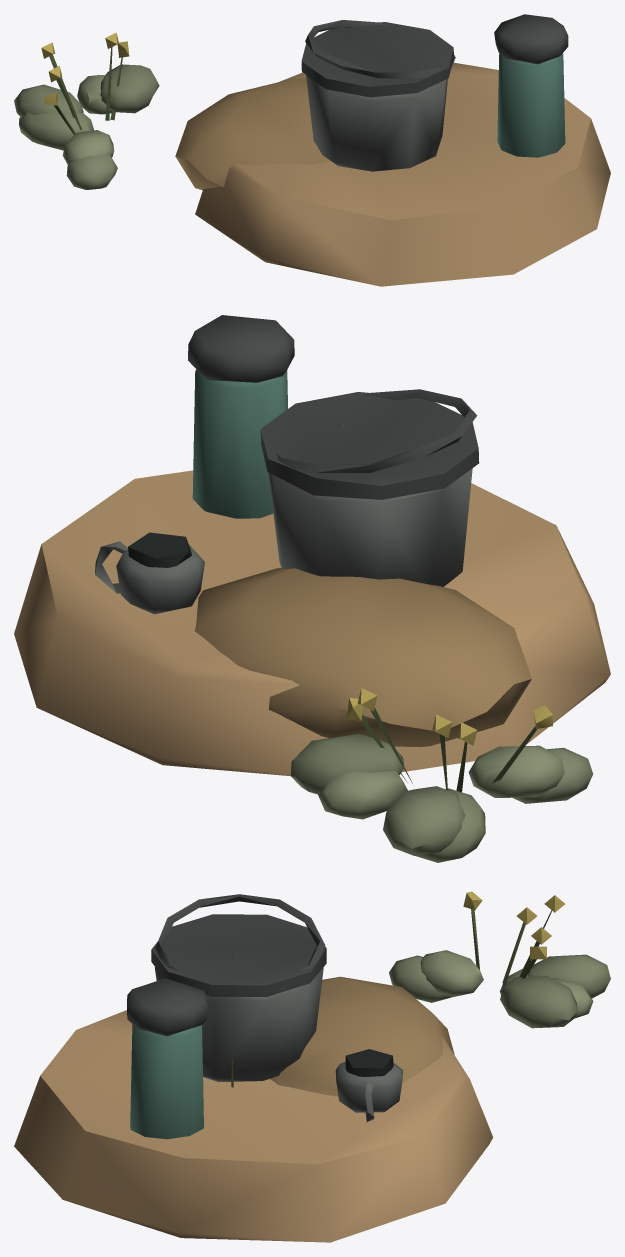
The model's file is lunch_pail_c_lod1.glb.
3 renders of one model, top to bottom at view 1: azimuth 30°, elevation 25°; view 2: azimuth 150°, elevation 25°; view 3: azimuth 270°, elevation 25°, orthographic. The views are drawn at different scales.
Parts seen in each view (by area): view 1: Surface.001; view 2: Surface.001; view 3: Surface.001.
Part boxes in pixels (box(x1,y1,x2,y2)): Surface.001: box(14, 14, 610, 286); Surface.001: box(14, 315, 610, 862); Surface.001: box(14, 891, 610, 1242).
Bounding box in the file's own units: 2.97 × 1.16 × 3.1.
